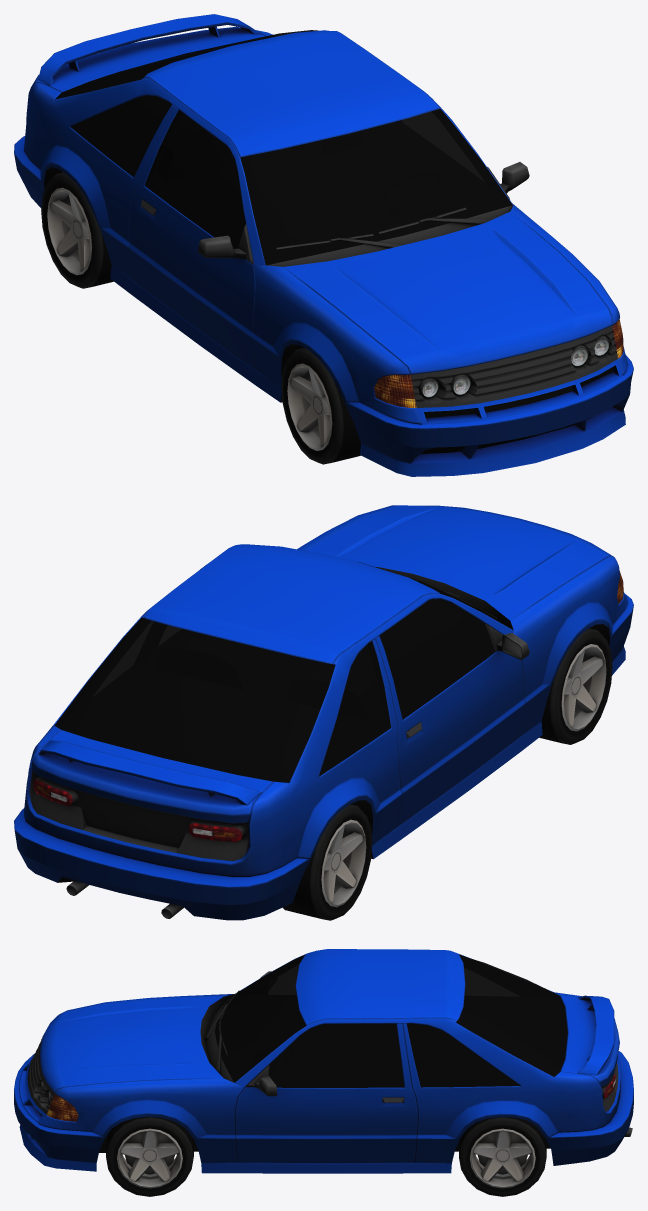
Rendered from generic_coupe.glb.
3 views of the same model, one above another, from view 1: azimuth 30°, elevation 25°; view 2: azimuth 150°, elevation 25°; view 3: azimuth 270°, elevation 25° (orthographic). The views are drawn at different scales.
Visible parts, largest first — view 1: Coupe Body_Body_0, Coupe Body_Glass_0, Wheel_F002_Wheel_0, Wheel_F003_Wheel_0, Coupe Body_Optics_0; view 2: Coupe Body_Body_0, Coupe Body_Glass_0, Wheel_F003_Wheel_0, Wheel_F002_Wheel_0, Coupe Body_Optics_0; view 3: Coupe Body_Body_0, Coupe Body_Glass_0, Wheel_F_Wheel_0, Wheel_F001_Wheel_0, Coupe Body_Optics_0.
Part boxes in pixels (left/top/right/bottom): Coupe Body_Body_0: left=14, top=14, right=633, bottom=476; Coupe Body_Glass_0: left=55, top=30, right=512, bottom=265; Wheel_F002_Wheel_0: left=281, top=348, right=360, bottom=464; Wheel_F003_Wheel_0: left=41, top=172, right=113, bottom=288; Coupe Body_Optics_0: left=374, top=319, right=623, bottom=407; Coupe Body_Body_0: left=14, top=505, right=633, bottom=920; Coupe Body_Glass_0: left=54, top=562, right=507, bottom=782; Wheel_F003_Wheel_0: left=282, top=804, right=372, bottom=920; Wheel_F002_Wheel_0: left=539, top=628, right=612, bottom=744; Coupe Body_Optics_0: left=33, top=571, right=623, bottom=841; Coupe Body_Body_0: left=14, top=949, right=633, bottom=1173; Coupe Body_Glass_0: left=215, top=954, right=567, bottom=1087; Wheel_F_Wheel_0: left=106, top=1116, right=193, bottom=1196; Wheel_F001_Wheel_0: left=459, top=1117, right=546, bottom=1196; Coupe Body_Optics_0: left=46, top=1074, right=615, bottom=1121.
Size of the model in its own units: 1.88 by 1.28 by 4.24.
Materials: 4 (3 with a texture image).
